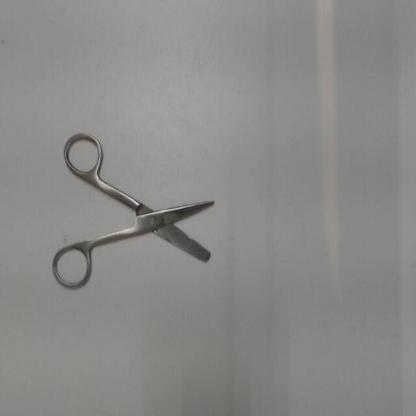Dressing Scissors: (45, 121, 226, 297)
